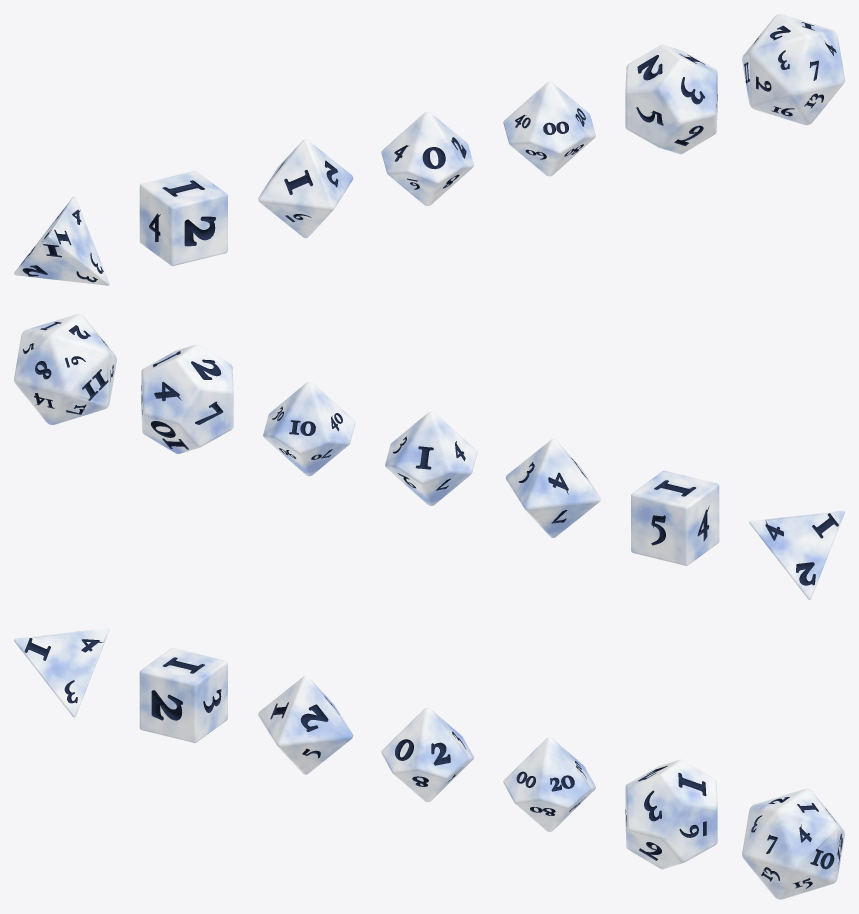
File: moonstone.glb
3 views of the same model, one above another, from view 1: azimuth 30°, elevation 25°; view 2: azimuth 150°, elevation 25°; view 3: azimuth 330°, elevation 25° (orthographic).
Visible parts, largest first — view 1: d20, d12, d6, d100, d10, d8, d4; view 2: d20, d12, d6, d100, d10, d8, d4; view 3: d20, d12, d6, d8, d10, d100, d4.
Boxes of the visible parts, x1,y1,x2,y2 form: d20: [742, 14, 844, 125]; d12: [625, 44, 717, 154]; d6: [139, 171, 227, 266]; d100: [503, 82, 595, 176]; d10: [381, 111, 473, 206]; d8: [258, 139, 353, 238]; d4: [14, 196, 109, 285]; d20: [14, 314, 116, 424]; d12: [141, 344, 233, 453]; d6: [631, 470, 719, 565]; d100: [263, 382, 355, 476]; d10: [385, 411, 477, 505]; d8: [505, 439, 600, 537]; d4: [749, 510, 844, 599]; d20: [742, 788, 844, 899]; d12: [625, 759, 717, 869]; d6: [139, 647, 227, 742]; d8: [258, 675, 353, 774]; d10: [381, 707, 473, 802]; d100: [503, 737, 595, 831]; d4: [14, 628, 109, 717].
Size of the model in its own units: 21.14 by 2.47 by 2.47.
14 materials, 7 textured.
